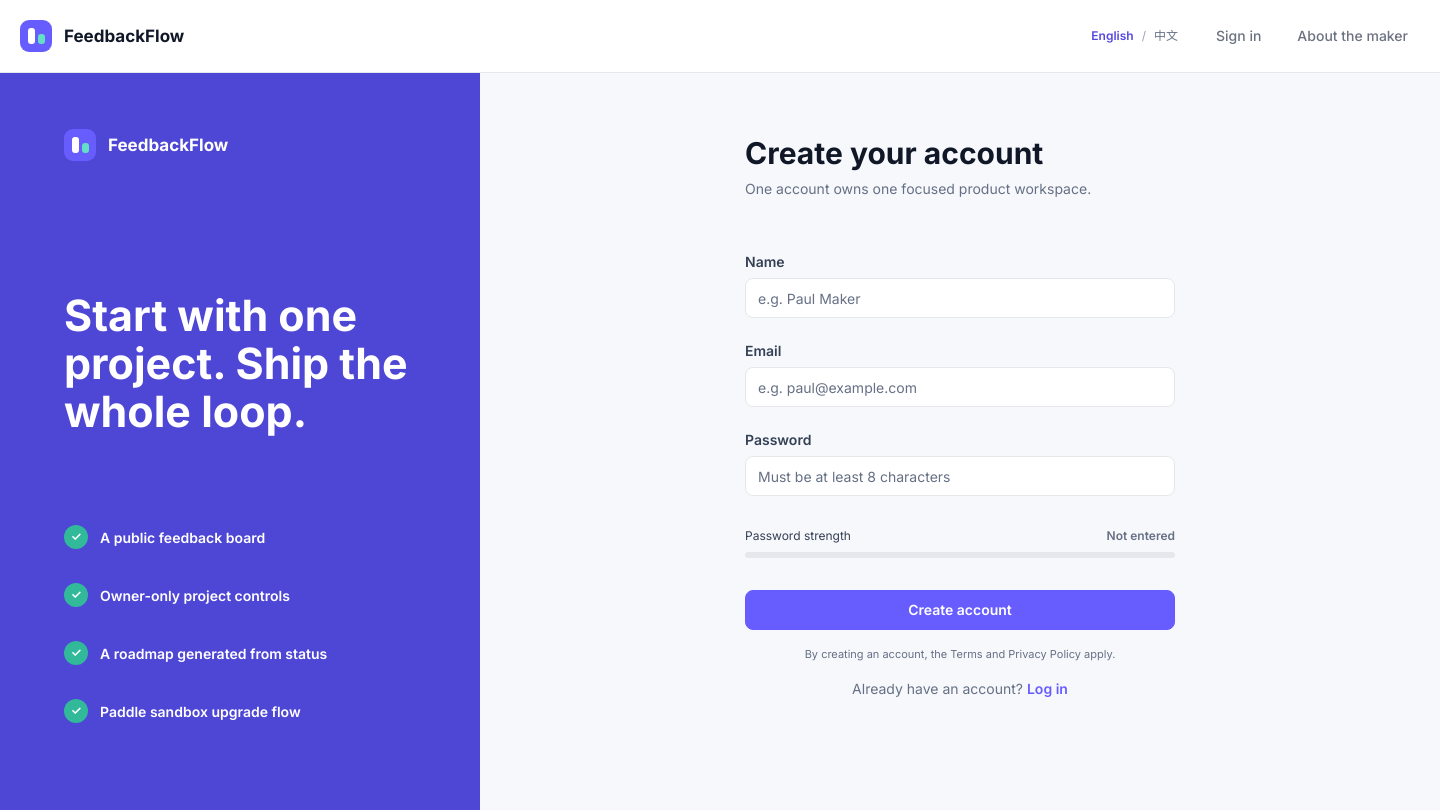
Test case: RegisterPage › updates the password strength indicator
Step 1. Type "Feedback123!" into the password field labelled "Password" → (960, 476), box [745,456,1175,496]
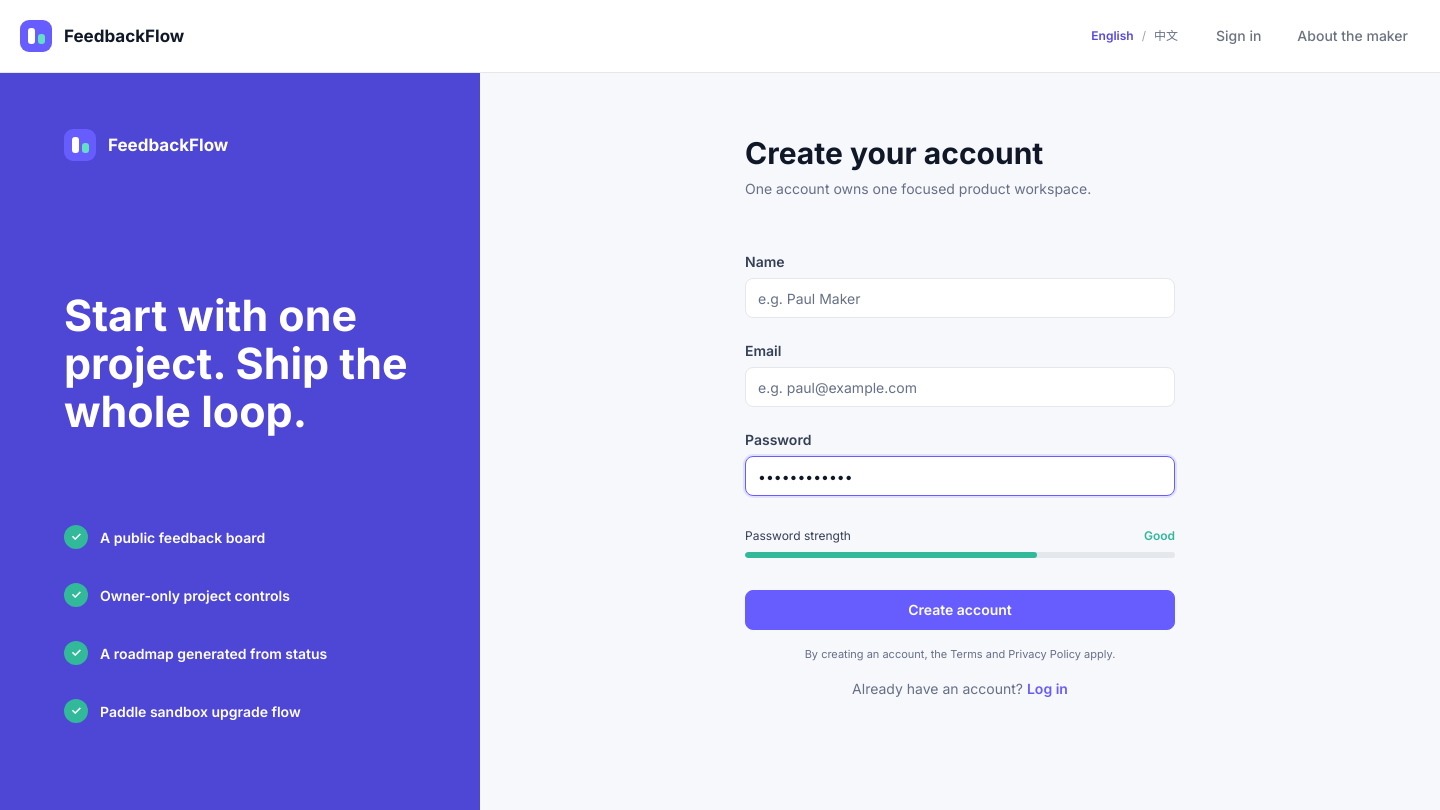
Check: the text "Good" is shown, box [1144,528,1175,544]
